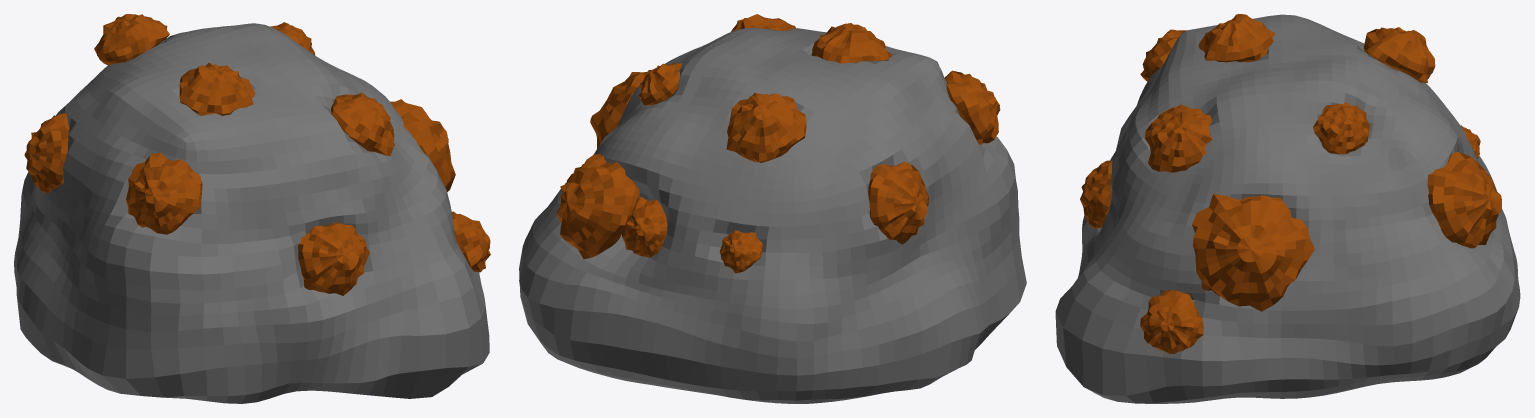
The model's file is IronResources.fbx.
The picture shows the model from 3 angles, left to right: view 1: azimuth 30°, elevation 25°; view 2: azimuth 150°, elevation 25°; view 3: azimuth 270°, elevation 25°; orthographic projection. The views are drawn at different scales.
Parts seen in each view (by area): view 1: Bronze, Resources.003, Resources.004, Resources.006, Resources.005, Resources.007, Resources.002, Resources.010, Resources.009, Resources.008; view 2: Bronze, Resources.011, Resources.007, Resources.002, Resources.003, Resources.006, Resources.010, Resources, Resources.008, Resources.005; view 3: Bronze, Resources.010, Resources.011, Resources.005, Resources.009, Resources.006, Resources.007, Resources.008, Resources.004, Resources.003.
Part boxes in pixels (x1=…): Bronze: x1=14, y1=23, x2=489, y2=403; Resources.003: x1=126, y1=152, x2=202, y2=234; Resources.004: x1=298, y1=222, x2=369, y2=295; Resources.006: x1=179, y1=62, x2=254, y2=115; Resources.005: x1=331, y1=92, x2=394, y2=155; Resources.007: x1=94, y1=14, x2=169, y2=65; Resources.002: x1=24, y1=113, x2=69, y2=192; Resources.010: x1=390, y1=99, x2=455, y2=191; Resources.009: x1=451, y1=211, x2=490, y2=272; Resources.008: x1=270, y1=22, x2=315, y2=55; Bronze: x1=519, y1=27, x2=1026, y2=403; Resources.011: x1=556, y1=153, x2=667, y2=259; Resources.007: x1=726, y1=93, x2=806, y2=162; Resources.002: x1=868, y1=161, x2=928, y2=244; Resources.003: x1=944, y1=70, x2=1000, y2=144; Resources.006: x1=811, y1=23, x2=891, y2=63; Resources.010: x1=590, y1=71, x2=647, y2=148; Resources: x1=719, y1=230, x2=762, y2=273; Resources.008: x1=639, y1=63, x2=682, y2=105; Resources.005: x1=731, y1=14, x2=795, y2=31; Bronze: x1=1055, y1=14, x2=1520, y2=403; Resources.010: x1=1192, y1=194, x2=1314, y2=311; Resources.011: x1=1427, y1=151, x2=1501, y2=248; Resources.005: x1=1144, y1=104, x2=1212, y2=172; Resources.009: x1=1140, y1=290, x2=1203, y2=353; Resources.006: x1=1198, y1=14, x2=1275, y2=62; Resources.007: x1=1363, y1=27, x2=1435, y2=83; Resources.008: x1=1313, y1=102, x2=1370, y2=154; Resources.004: x1=1080, y1=160, x2=1112, y2=228; Resources.003: x1=1140, y1=29, x2=1186, y2=81.
Size of the model in its own units: 310 by 235 by 327.
